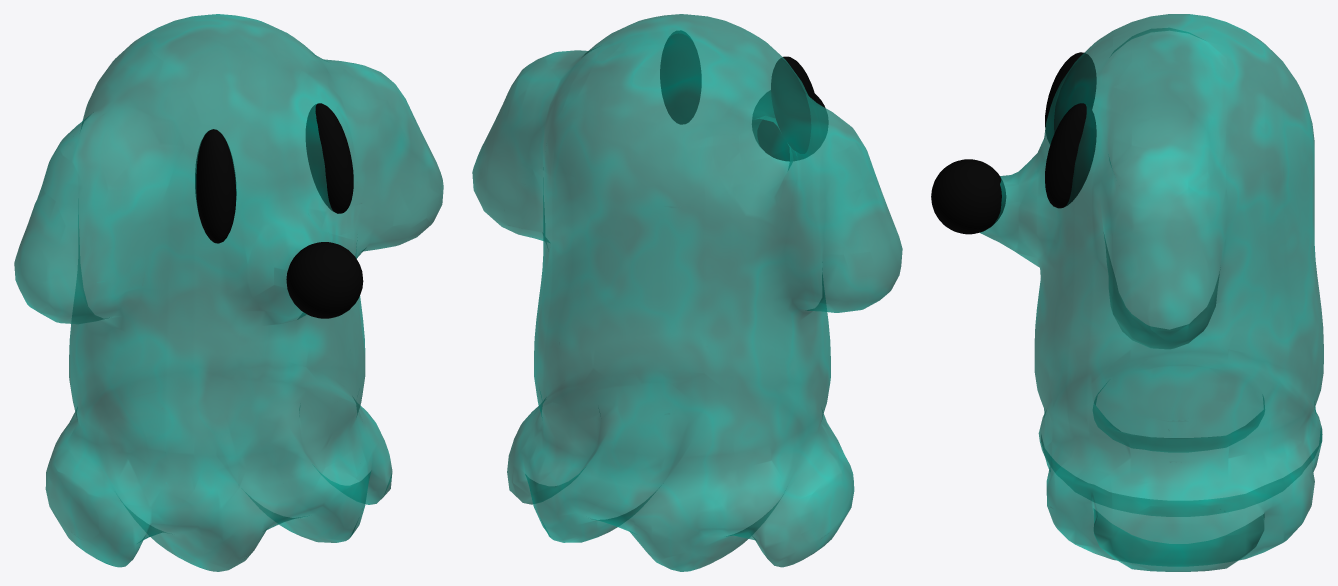
File: puppii.fbx
3 views of the same model, side by side, from view 1: azimuth 30°, elevation 25°; view 2: azimuth 150°, elevation 25°; view 3: azimuth 270°, elevation 25° (orthographic). The views are drawn at different scales.
Visible parts, largest first — view 1: Sphere.001_Baked; view 2: Sphere.001_Baked; view 3: Sphere.001_Baked.
Boxes of the visible parts, x1=… form: Sphere.001_Baked: x1=14, y1=14, x2=443, y2=571; Sphere.001_Baked: x1=472, y1=14, x2=902, y2=571; Sphere.001_Baked: x1=931, y1=14, x2=1323, y2=571.
Bounding box in the file's own units: 397 × 472 × 333.
2 materials, 1 textured.
